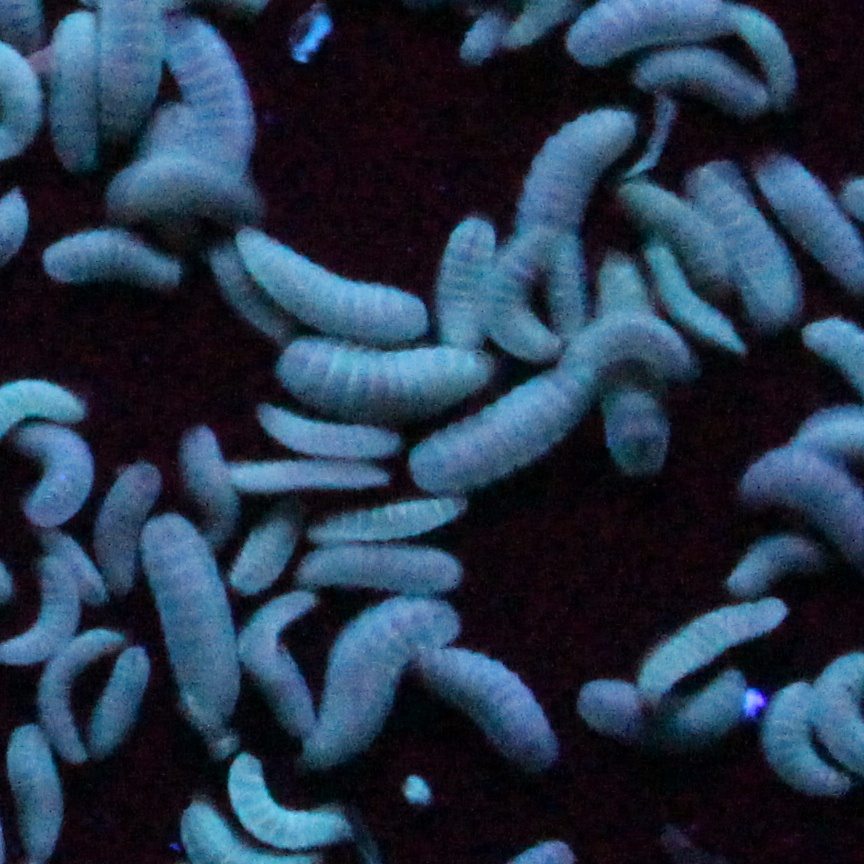larve: (293, 599, 465, 766), (410, 358, 617, 492), (236, 220, 430, 342), (139, 520, 237, 728), (417, 642, 567, 772), (280, 335, 496, 415), (636, 601, 793, 708), (517, 105, 637, 240), (225, 754, 361, 849), (574, 675, 748, 747), (625, 182, 732, 282), (111, 159, 274, 222), (488, 232, 571, 355), (758, 689, 851, 797), (5, 723, 74, 863), (15, 420, 94, 530), (41, 230, 184, 290), (255, 402, 402, 459), (94, 461, 159, 586), (315, 488, 463, 542), (630, 54, 765, 110), (439, 208, 490, 343), (234, 502, 304, 597), (301, 551, 463, 590), (173, 426, 234, 512), (235, 460, 389, 490)
